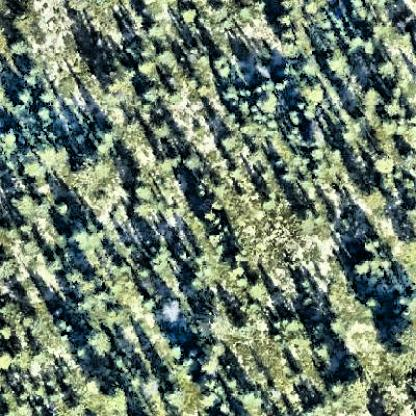tree-top: (329, 364, 373, 407), (69, 150, 110, 190), (193, 339, 227, 379), (12, 190, 49, 226), (65, 219, 104, 253), (35, 141, 72, 174), (163, 379, 199, 411), (84, 325, 116, 357), (386, 332, 415, 367), (100, 380, 129, 412), (255, 90, 287, 117), (136, 371, 165, 400), (9, 7, 37, 37), (156, 296, 184, 325), (16, 61, 47, 87), (324, 49, 352, 77), (129, 176, 156, 204), (373, 151, 400, 178), (351, 253, 378, 279), (149, 117, 176, 143), (91, 122, 119, 147), (140, 80, 165, 107), (302, 80, 327, 107), (306, 128, 331, 153), (7, 34, 32, 58), (381, 94, 405, 119), (219, 129, 243, 154), (246, 274, 270, 299), (142, 17, 167, 41), (360, 237, 384, 261), (137, 55, 161, 79), (362, 85, 385, 110), (280, 38, 305, 61), (305, 391, 328, 416), (177, 3, 200, 25), (183, 150, 205, 173), (214, 55, 236, 78), (1, 124, 18, 153), (398, 146, 416, 173), (273, 8, 296, 29), (220, 83, 240, 106), (1, 253, 18, 280), (14, 86, 36, 106), (254, 60, 276, 80), (280, 313, 301, 333), (39, 88, 57, 108), (378, 59, 396, 78), (54, 201, 74, 218), (1, 321, 17, 339)
